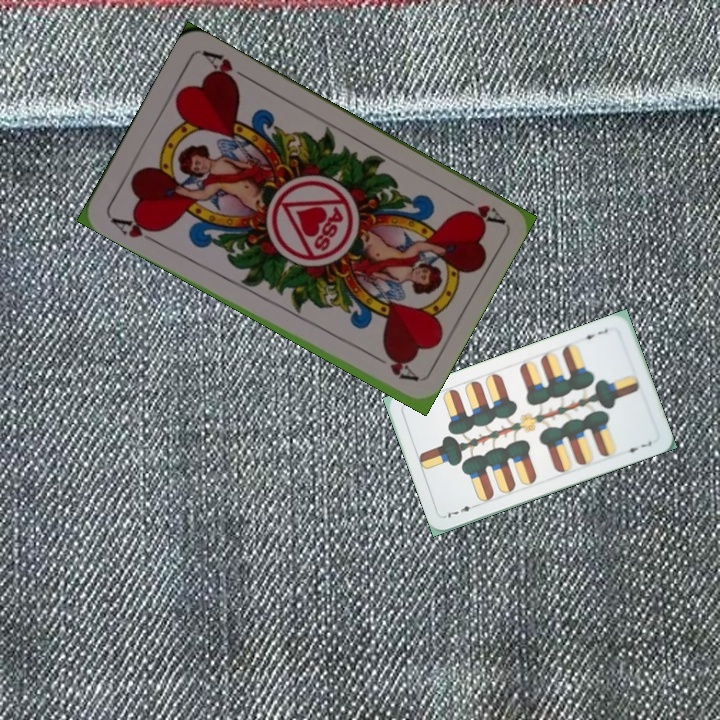E7: (441, 500, 480, 521), (577, 325, 610, 342)
HA: (451, 189, 506, 226), (106, 212, 164, 247)
